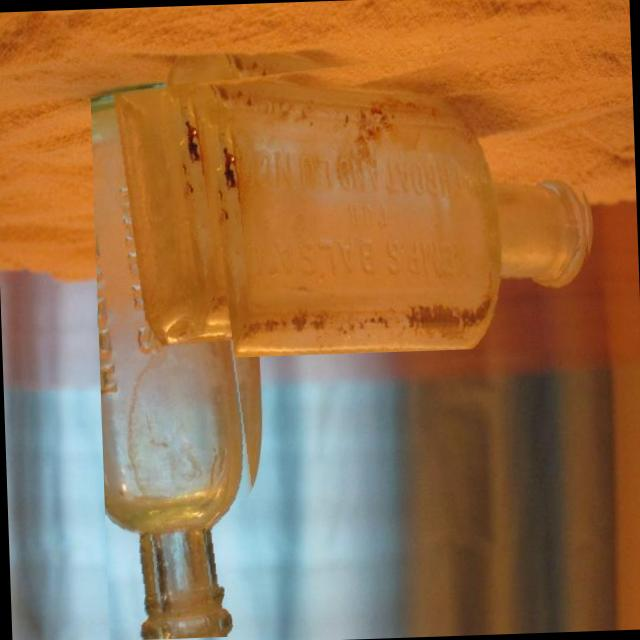Glass: (165, 38, 596, 358), (89, 78, 270, 640)
